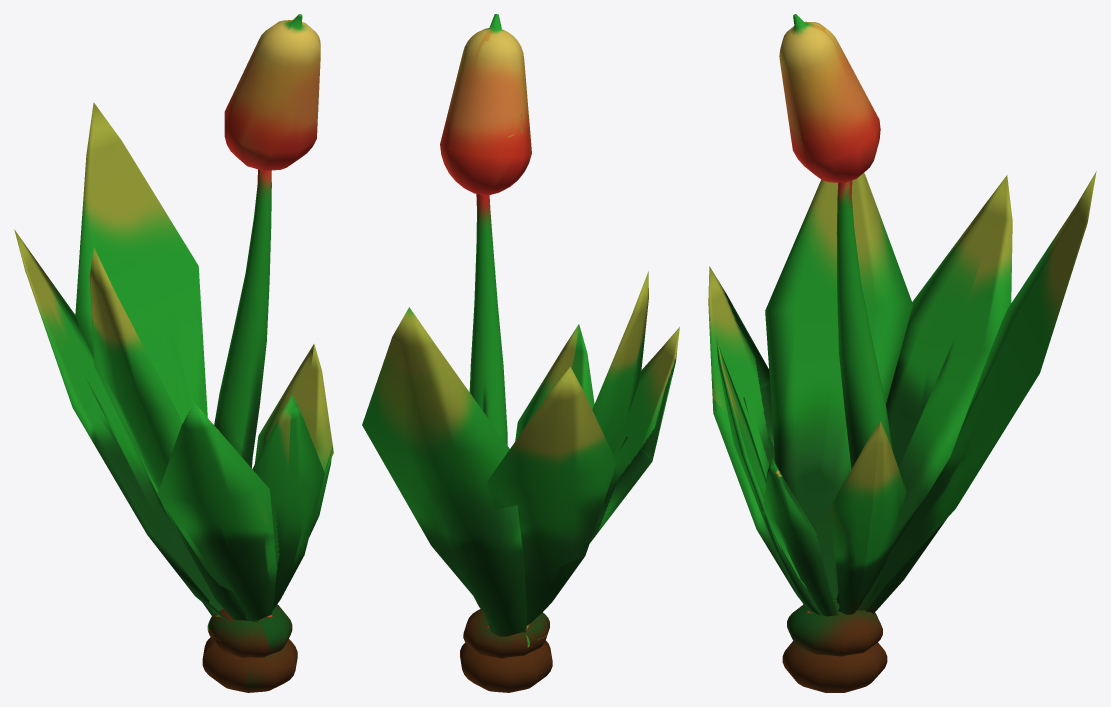
The model's file is Plant_med_002.fbx.
3 renders of one model, left to right at view 1: azimuth 30°, elevation 25°; view 2: azimuth 150°, elevation 25°; view 3: azimuth 270°, elevation 25°, orthographic. The views are drawn at different scales.
Parts seen in each view (by area): view 1: Plant_medium_001; view 2: Plant_medium_001; view 3: Plant_medium_001.
Boxes of the visible parts, <box> form: Plant_medium_001: <box>14,14,333,692</box>; Plant_medium_001: <box>362,14,679,692</box>; Plant_medium_001: <box>708,14,1096,692</box>.
Bounding box in the file's own units: 535 × 1450 × 742.
